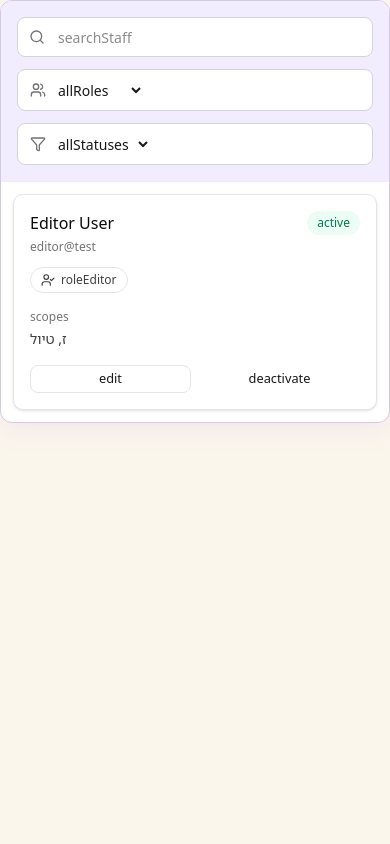
Test: admin staff role permissions › renders staff mobile cards with edit and status actions
Expected: the heading "Editor User" is shown, [30,211,114,235]
Expected: the text "editor@test" is shown, [30,238,96,255]
Click the button with aria-label "edit Editor User" at (110, 379), box [30,365,191,393]
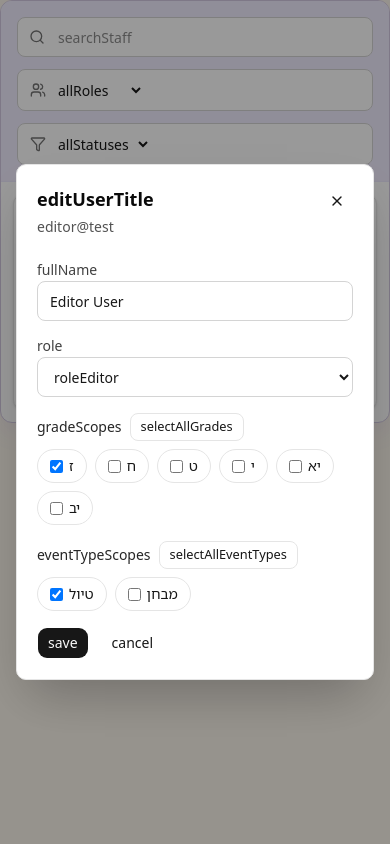
Expected: the dialog "editUserTitle" is shown
